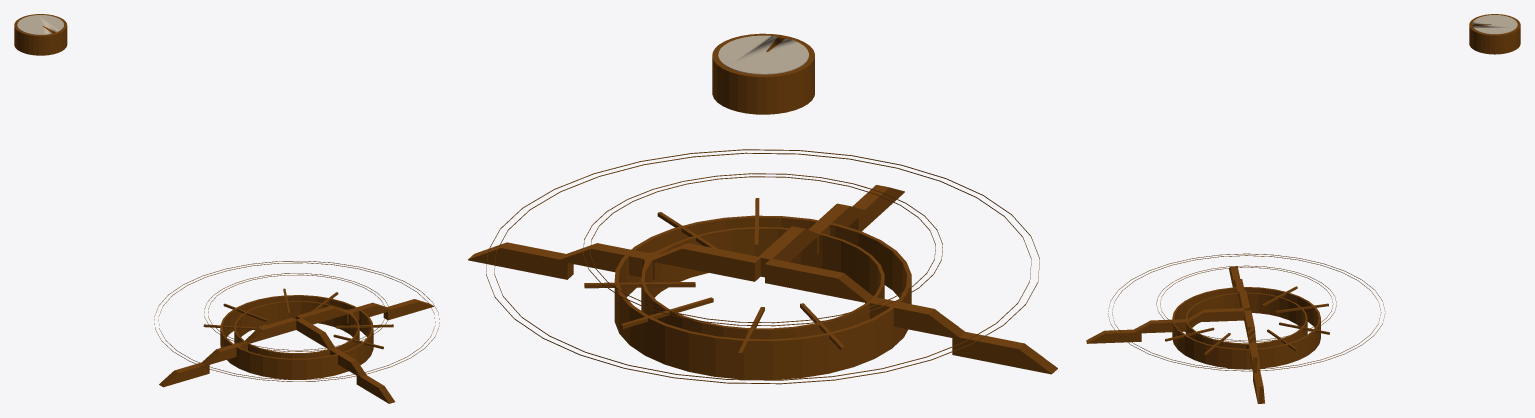
File: City_Base_Paths_and_stairs.fbx
The picture shows the model from 3 angles, left to right: view 1: azimuth 30°, elevation 25°; view 2: azimuth 150°, elevation 25°; view 3: azimuth 270°, elevation 25°; orthographic projection. The views are drawn at different scales.
Parts seen in each view (by area): view 1: Cylinder.335, Cylinder.336, Cylinder.337, Cylinder.197, Cylinder.196, Cube.346, Cube.348, Cube.185, Cube.351, Cube.188, Cube.349, Cube.347 (+3 smaller); view 2: Cylinder.335, Cylinder.336, Cylinder.337, Cylinder.197, Cube.346, Cube.188, Cube.348, Cube.185, Cube.347, Cylinder.196, Cube.187, Cube.351 (+5 smaller); view 3: Cylinder.335, Cylinder.336, Cylinder.337, Cylinder.197, Cube.351, Cylinder.196, Cube.349, Cube.350, Cylinder.199.
Boxes of the visible parts, left/top/right/bottom form: Cylinder.335: left=220, top=295, right=373, bottom=379; Cylinder.336: left=234, top=301, right=359, bottom=358; Cylinder.337: left=14, top=14, right=67, bottom=55; Cylinder.197: left=158, top=262, right=435, bottom=379; Cylinder.196: left=154, top=261, right=439, bottom=381; Cube.346: left=245, top=317, right=296, bottom=343; Cube.348: left=159, top=362, right=209, bottom=387; Cube.185: left=383, top=299, right=433, bottom=320; Cube.351: left=296, top=318, right=334, bottom=348; Cube.188: left=296, top=306, right=348, bottom=324; Cube.349: left=356, top=375, right=394, bottom=403; Cube.347: left=202, top=341, right=248, bottom=364; Cylinder.335: left=614, top=215, right=911, bottom=379; Cylinder.336: left=641, top=227, right=884, bottom=339; Cylinder.337: left=712, top=33, right=814, bottom=114; Cylinder.197: left=494, top=152, right=1031, bottom=380; Cube.346: left=765, top=259, right=873, bottom=302; Cube.188: left=652, top=243, right=760, bottom=281; Cube.348: left=952, top=332, right=1057, bottom=374; Cube.185: left=468, top=242, right=573, bottom=279; Cube.347: left=865, top=297, right=965, bottom=339; Cylinder.196: left=486, top=149, right=1039, bottom=384; Cube.187: left=560, top=243, right=660, bottom=279; Cube.351: left=758, top=226, right=818, bottom=277; Cylinder.335: left=1172, top=287, right=1320, bottom=368; Cylinder.336: left=1185, top=292, right=1307, bottom=348; Cylinder.337: left=1469, top=14, right=1520, bottom=54; Cylinder.197: left=1112, top=255, right=1381, bottom=369; Cube.351: left=1187, top=308, right=1244, bottom=322; Cylinder.196: left=1108, top=253, right=1385, bottom=371; Cube.349: left=1086, top=329, right=1141, bottom=343; Cube.350: left=1133, top=319, right=1190, bottom=333; Cylinder.199: left=1160, top=267, right=1333, bottom=340.
Bounding box in the file's own units: 66369 × 56093 × 87430.
